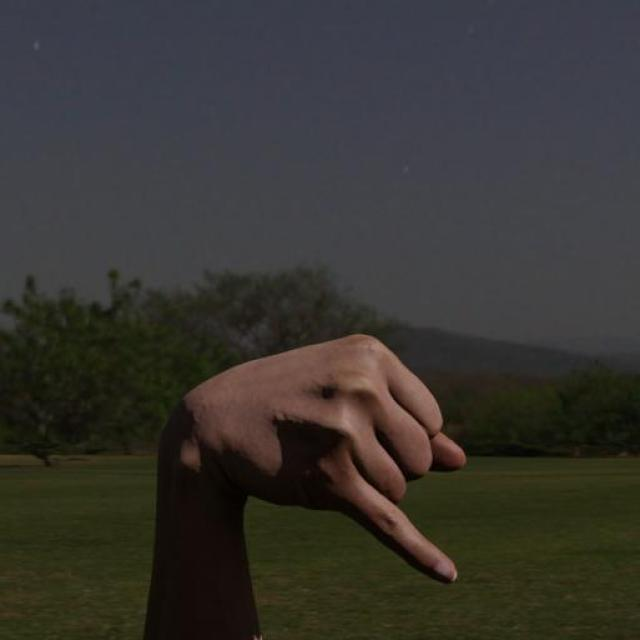J: (148, 328, 470, 584)
